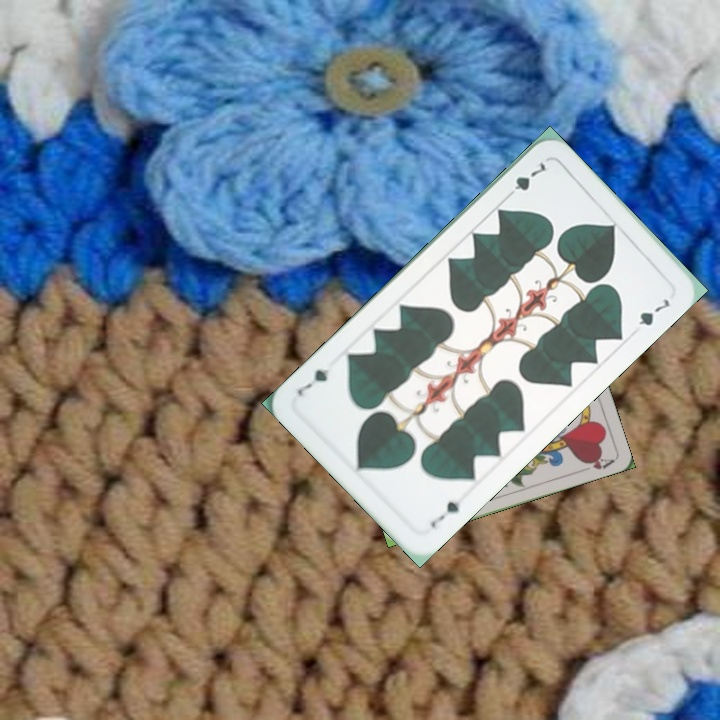G7: (502, 157, 549, 202), (426, 496, 463, 531)
